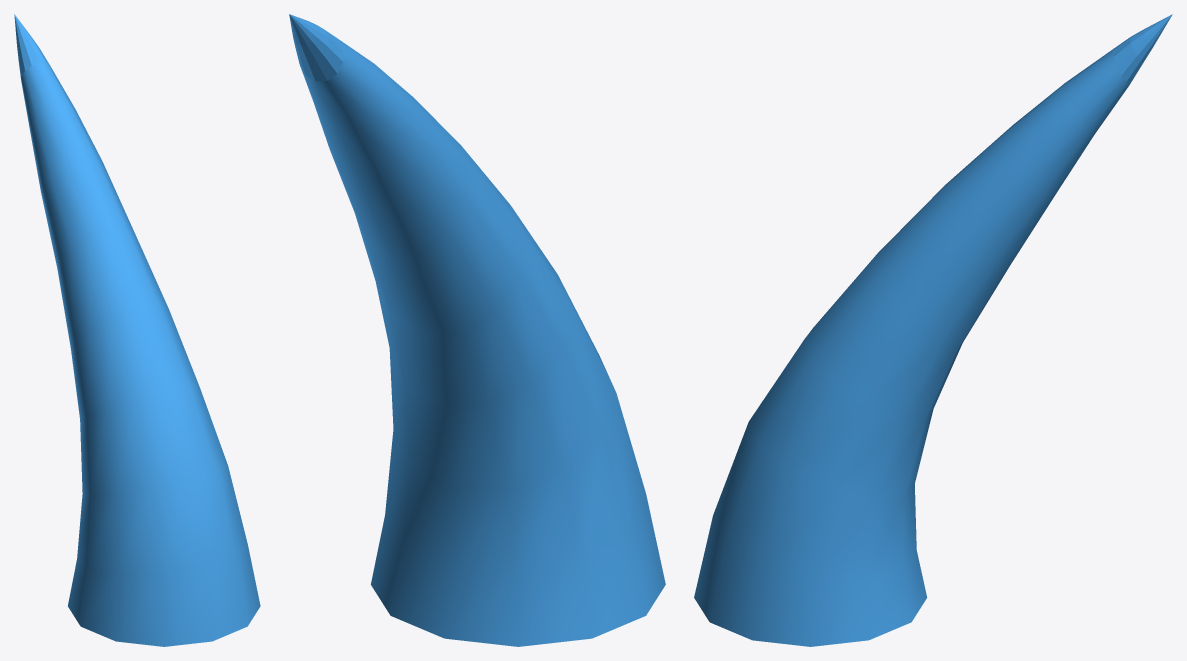
Rendered from attackEffect.fbx.
The picture shows the model from 3 angles, left to right: view 1: azimuth 30°, elevation 25°; view 2: azimuth 150°, elevation 25°; view 3: azimuth 270°, elevation 25°; orthographic projection. The views are drawn at different scales.
Visible parts, largest first — view 1: Torus001; view 2: Torus001; view 3: Torus001.
Boxes of the visible parts, x1,y1,x2,y2 form: Torus001: [14, 14, 260, 646]; Torus001: [289, 14, 665, 646]; Torus001: [694, 14, 1172, 646].
Bounding box in the file's own units: 2842 × 7848 × 5837.
